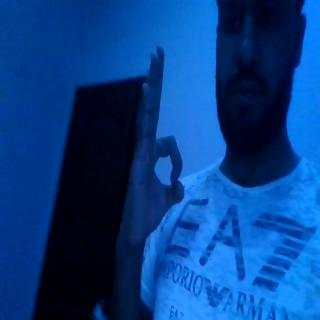Space: (121, 41, 195, 245)
